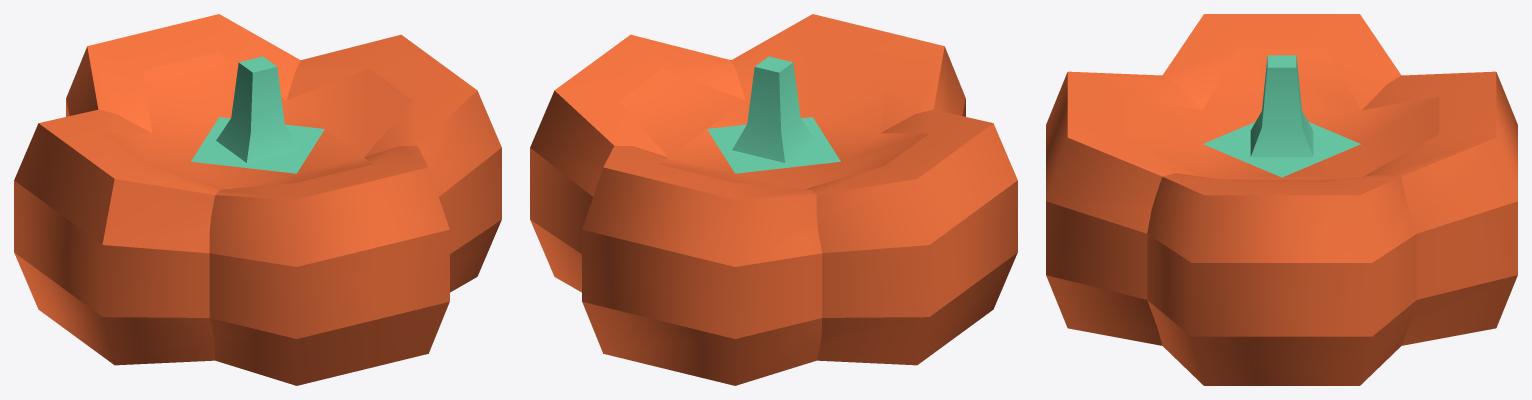
The model's file is pumpkin.obj.
3 views of the same model, side by side, from view 1: azimuth 30°, elevation 25°; view 2: azimuth 150°, elevation 25°; view 3: azimuth 270°, elevation 25° (orthographic). The views are drawn at different scales.
Visible parts, largest first — view 1: pumpkin; view 2: pumpkin; view 3: pumpkin.
Boxes of the visible parts, box(x1,y1,x2,y2) form: pumpkin: box(14, 14, 501, 385); pumpkin: box(530, 14, 1017, 385); pumpkin: box(1046, 14, 1517, 385).
Size of the model in its own units: 0.4189 by 0.2291 by 0.4189.
